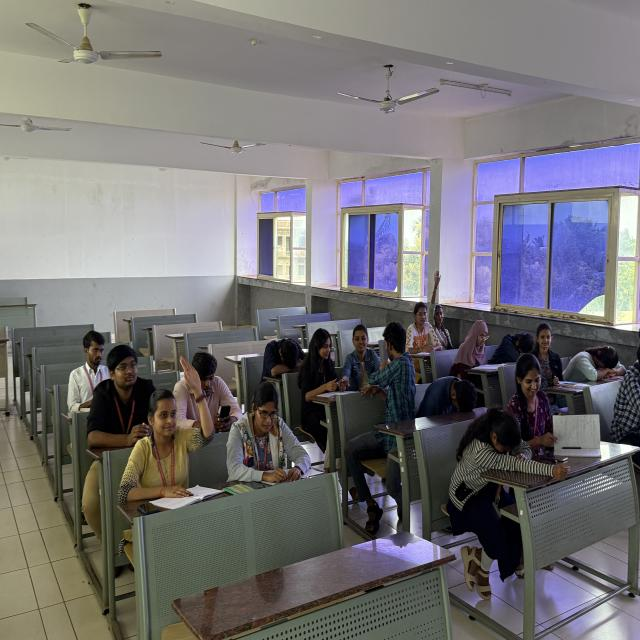Hand Rising: (142, 347, 214, 481), (426, 268, 457, 344)
Reading: (220, 381, 310, 485), (504, 349, 583, 464), (561, 341, 633, 390), (452, 317, 498, 376)
Sleeping: (442, 402, 569, 497), (413, 366, 484, 419), (259, 331, 313, 383), (492, 326, 538, 367)
Using Phone: (172, 340, 248, 434)
Writing: (300, 324, 360, 406)
